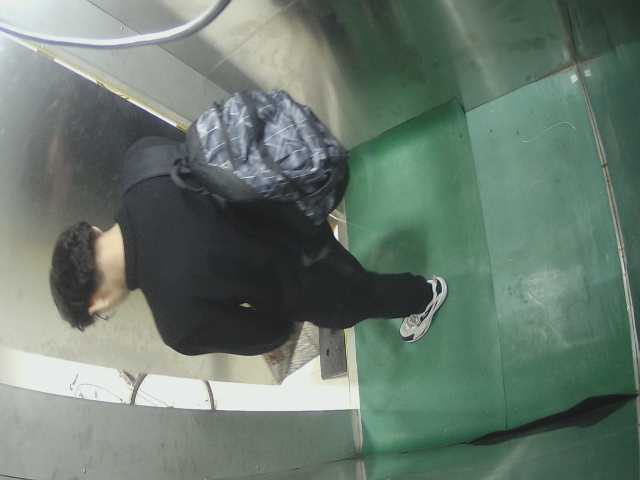bag: (181, 84, 357, 227)
person: (41, 124, 454, 344)
